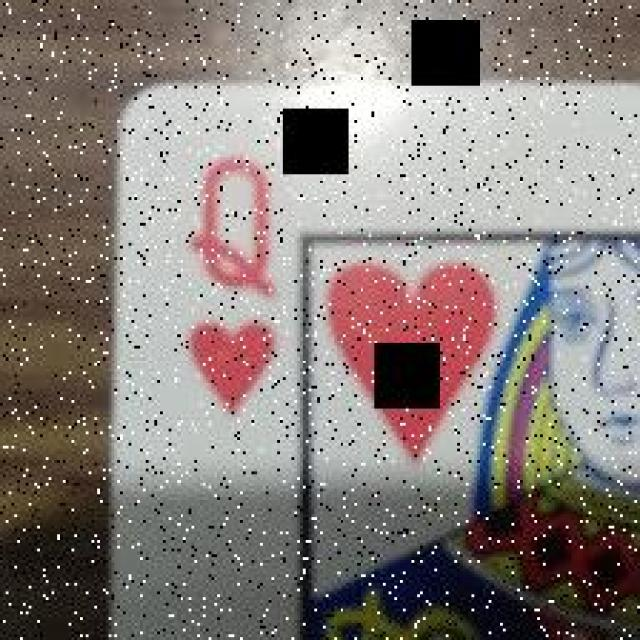Queen of hearts: (114, 80, 640, 640)
